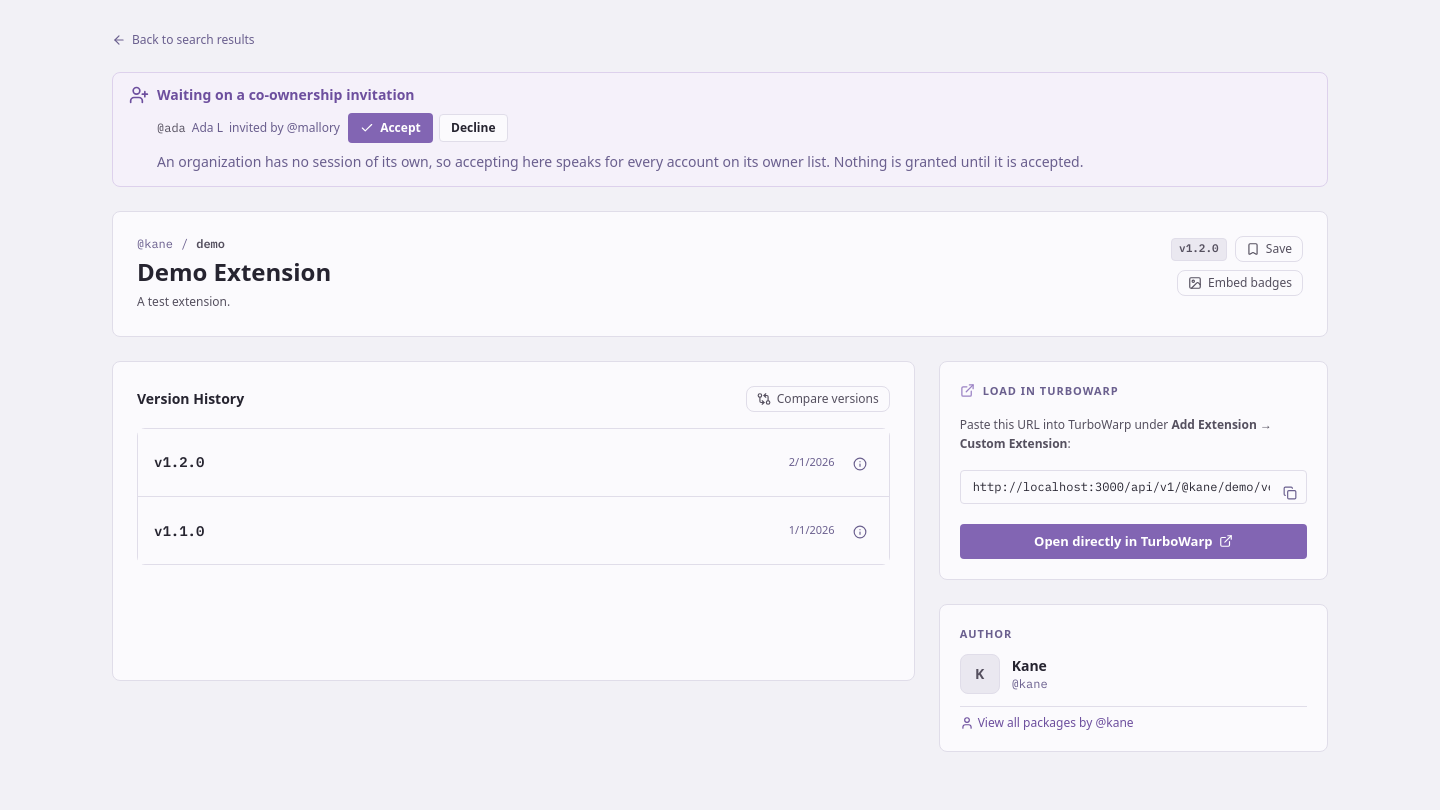
Test case: ExtensionDetailPage › offers the invited account the chance to take the co-ownership
The image size is (1440, 810).
Expected: the list item with test id "pending-owner-invite" shows "@ada", [157, 113, 508, 143]
Expected: the list item with test id "pending-owner-invite" shows "Ada L", [192, 119, 223, 136]
Click the button "Accept" at (390, 128), box [348, 113, 433, 143]
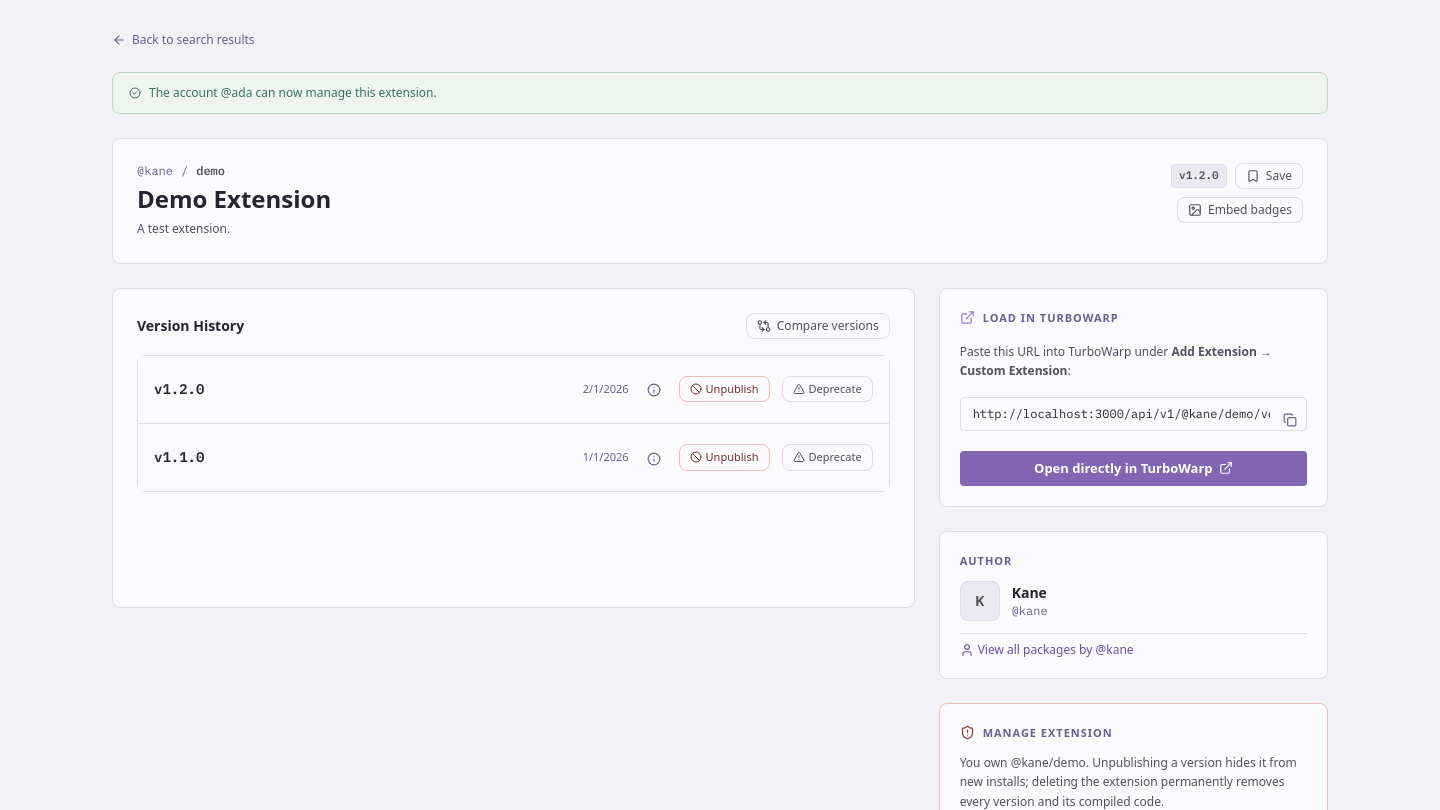
Expected: the heading "Manage Extension" is shown, [983, 724, 1113, 741]
Expected: the list item with test id "pending-owner-invite" is gone
